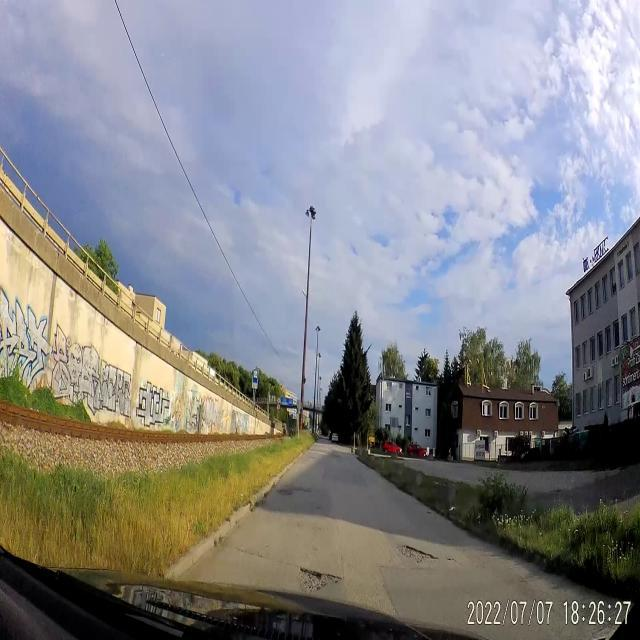Pothole: (397, 532, 437, 570), (297, 560, 342, 593), (276, 482, 310, 502)
